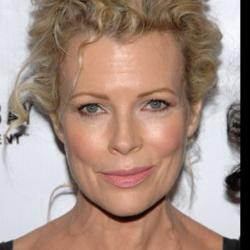face: (8, 3, 233, 215)
